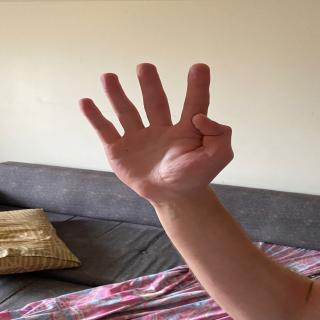SHEEN: (75, 57, 252, 197)
